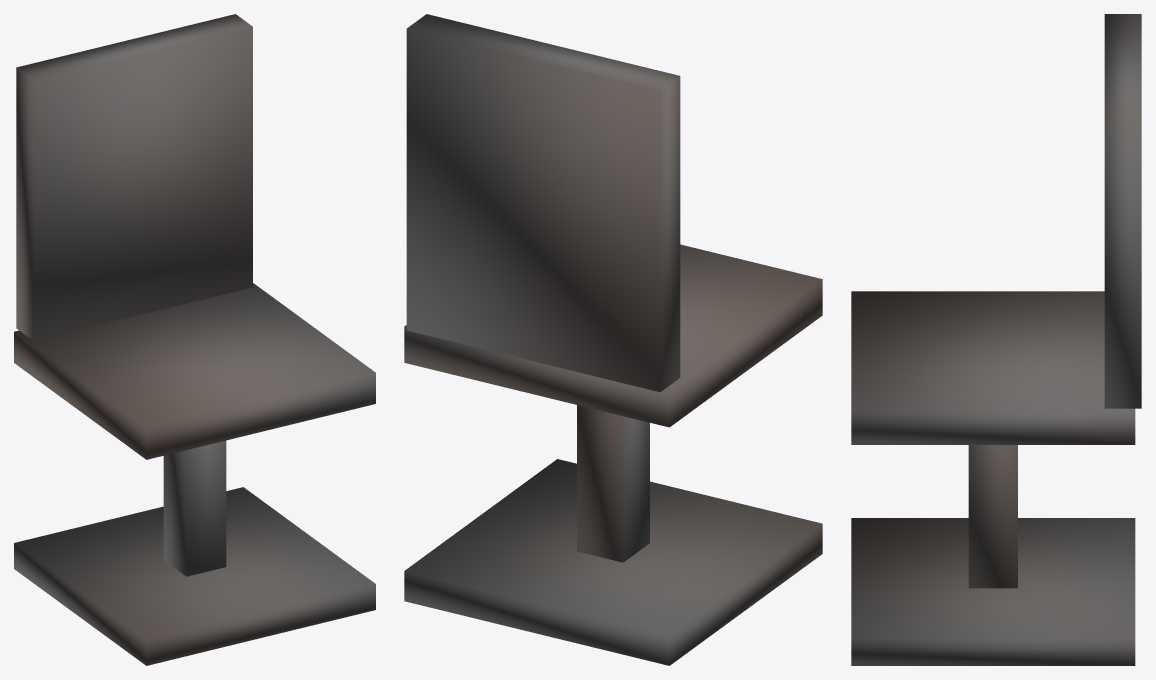
File: Kursi_Kantor.fbx
The picture shows the model from 3 angles, left to right: view 1: azimuth 30°, elevation 25°; view 2: azimuth 150°, elevation 25°; view 3: azimuth 270°, elevation 25°; orthographic projection. The views are drawn at different scales.
Parts seen in each view (by area): view 1: Kursi_Kantor; view 2: Kursi_Kantor; view 3: Kursi_Kantor.
Part boxes in pixels (x1,y1,x2,y2): Kursi_Kantor: [14, 14, 375, 665]; Kursi_Kantor: [404, 14, 822, 665]; Kursi_Kantor: [851, 14, 1141, 665].
Bounding box in the file's own units: 0.46 × 0.97 × 0.47.
